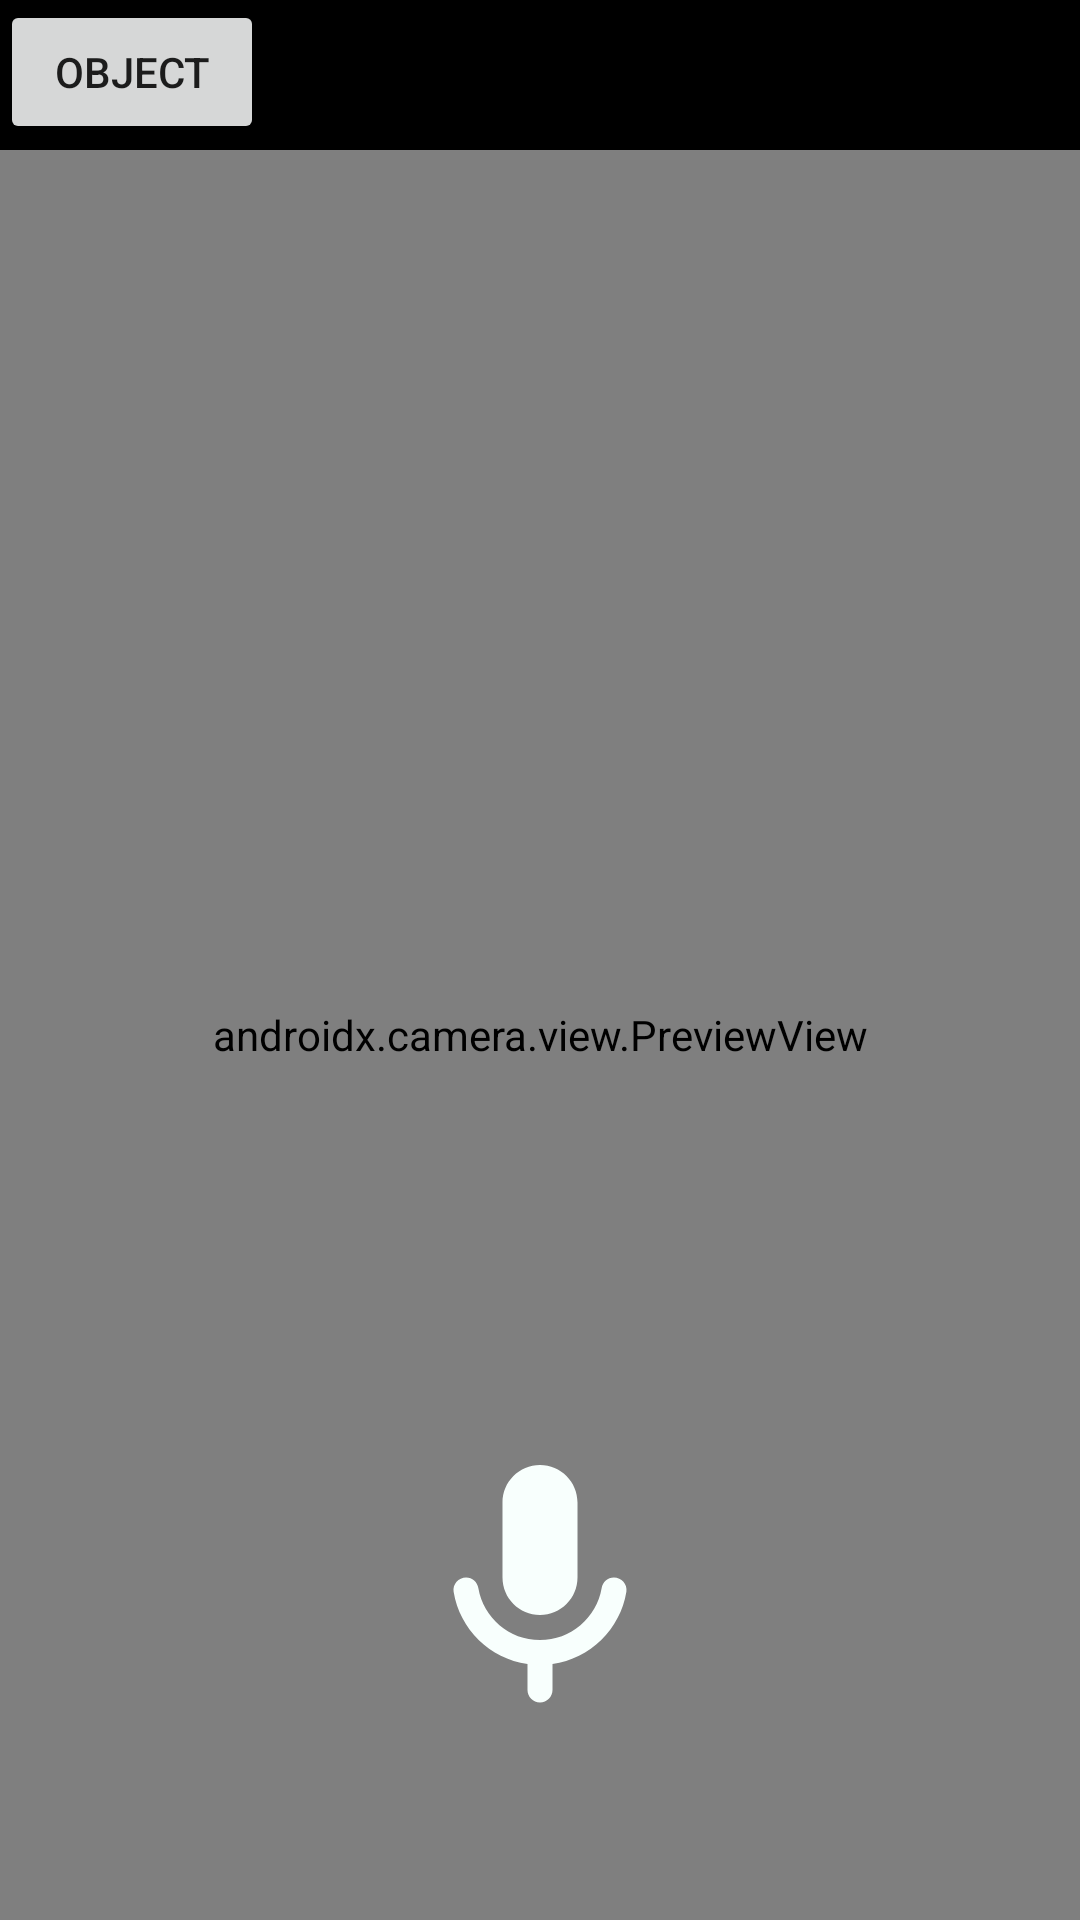

Screen size 1080px x 1920px. Icon name, then its center in pixels as [x,y]:
mic: [540,1584]
